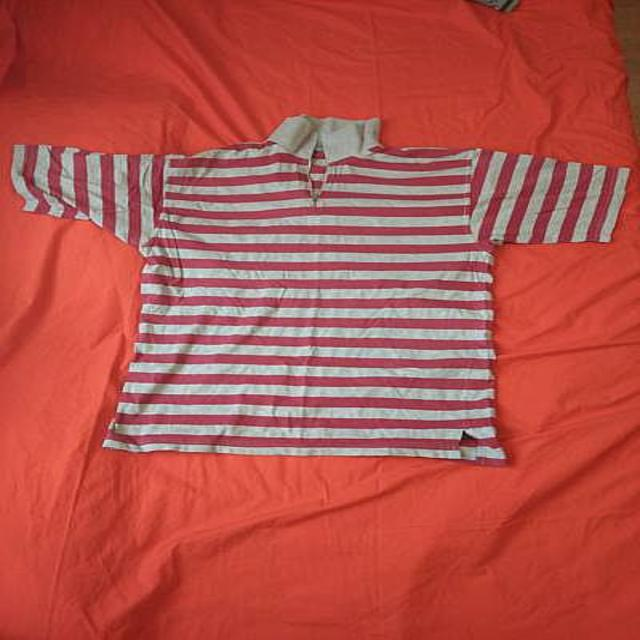T_SHIRT: (3, 106, 640, 470)
